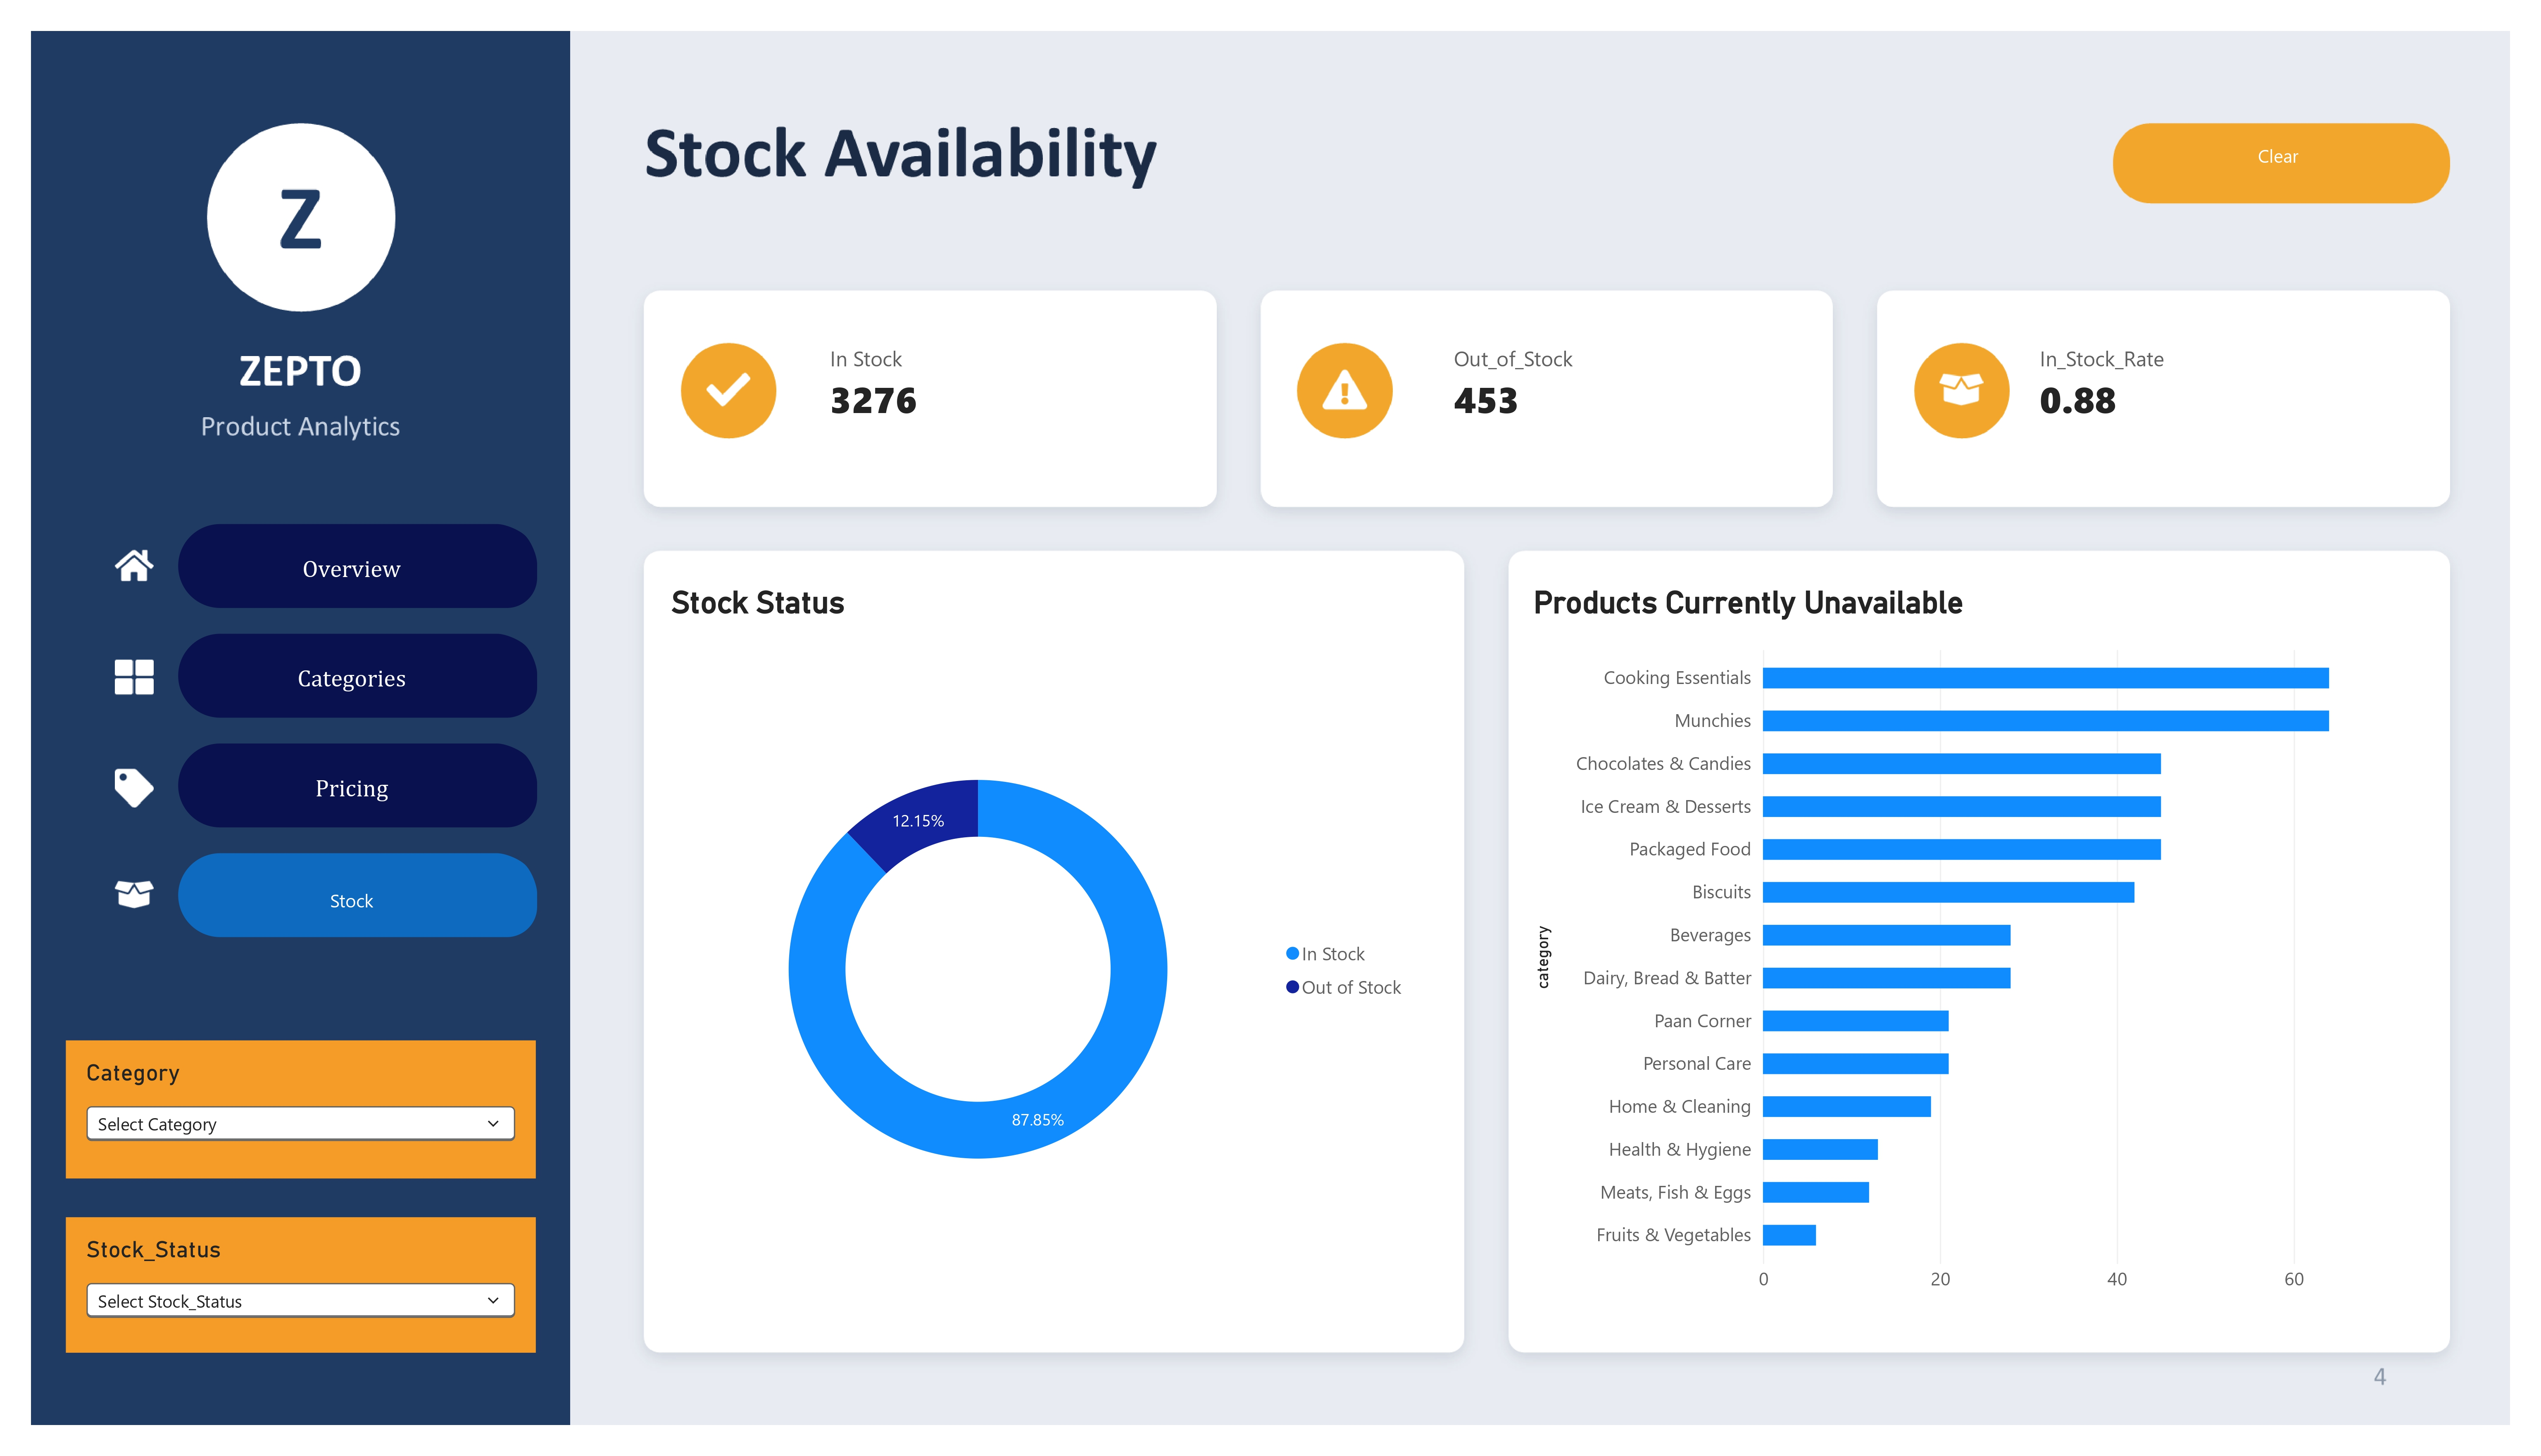

Layout of this report page (visuals, bound fields, positions):
{"tool":"powerbi","page":{"name":"Stock","canvas":[1920,1080],"ordinal":3},"visuals":[{"type":"actionButton","box":[1610.6,68.8,260.6,68.8],"z":0},{"type":"pageNavigator","box":[114,382,278,322],"z":1000},{"type":"cardVisual","fields":{"Data":["Count(zepto_cleaned)"]},"box":[602.6,215.3,186.4,117.6],"z":2000},{"type":"cardVisual","fields":{"Data":["Sum(zepto_cleaned.out_of_stock)"]},"box":[1085.8,229.8,152,88.7],"z":3000},{"type":"donutChart","fields":{"Category":["zepto_cleaned.stock_status"],"Y":["Sum(zepto_cleaned.product_id)"]},"box":[492.2,448.8,593.6,548.3],"z":4000},{"type":"textbox","box":[114,0,306,322],"z":5000},{"type":"textbox","box":[510.3,414.4,651.5,124.9],"z":6000},{"type":"clusteredBarChart","fields":{"Category":["zepto_cleaned.category"],"Y":["Sum(zepto_cleaned.out_of_stock)"]},"box":[1161.8,448.8,684.1,548.3],"z":7000},{"type":"textbox","box":[1174.5,414.4,671.4,34.4],"z":8000},{"type":"cardVisual","fields":{"Data":["zepto_cleaned.in_stock_rate"]},"box":[1540,228,155.6,92.3],"z":9000},{"type":"textbox","box":[1552.7,318.5,276.9,36.2],"z":10000},{"type":"listSlicer","fields":{"Values":["zepto_cleaned.category"]},"box":[27.1,781.8,363.7,106.8],"z":10001},{"type":"listSlicer","fields":{"Values":["zepto_cleaned.stock_status"]},"box":[27.1,919.3,363.7,105],"z":10002}]}

Visuals, with their boxes on the page's 1920x1080 design canvas (x1, y1, x2, y2). These are canvas units, not pixel positions in the 2541x1456 screenshot, which may show the page scaled, cropped or inside an application window:
actionButton: crop(1611, 69, 1871, 138)
pageNavigator: crop(114, 382, 392, 704)
cardVisual - Count(zepto_cleaned): crop(603, 215, 789, 333)
cardVisual - Sum(zepto_cleaned.out_of_stock): crop(1086, 230, 1238, 318)
donutChart - zepto_cleaned.stock_status x Sum(zepto_cleaned.product_id): crop(492, 449, 1086, 997)
textbox: crop(114, 0, 420, 322)
textbox: crop(510, 414, 1162, 539)
clusteredBarChart - zepto_cleaned.category x Sum(zepto_cleaned.out_of_stock): crop(1162, 449, 1846, 997)
textbox: crop(1174, 414, 1846, 449)
cardVisual - zepto_cleaned.in_stock_rate: crop(1540, 228, 1696, 320)
textbox: crop(1553, 318, 1830, 355)
listSlicer - zepto_cleaned.category: crop(27, 782, 391, 889)
listSlicer - zepto_cleaned.stock_status: crop(27, 919, 391, 1024)
